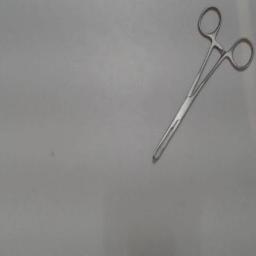Allis Tissue Forceps: (148, 2, 256, 168)
